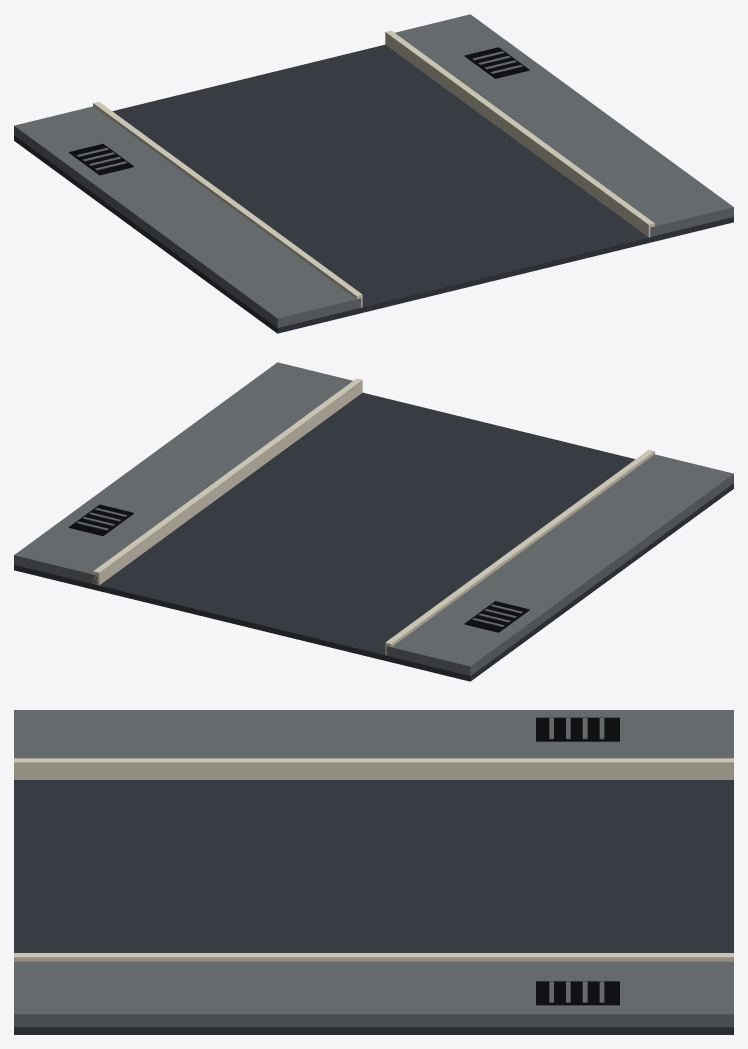
Rendered from side-alley-ground-6m.glb.
3 renders of one model, top to bottom at view 1: azimuth 30°, elevation 25°; view 2: azimuth 150°, elevation 25°; view 3: azimuth 270°, elevation 25°, orthographic. The views are drawn at different scales.
Visible parts, largest first — view 1: side-alley-ground-6m; view 2: side-alley-ground-6m; view 3: side-alley-ground-6m.
Boxes of the visible parts, left/top/right/bottom form: side-alley-ground-6m: left=14, top=14, right=733, bottom=333; side-alley-ground-6m: left=14, top=362, right=733, bottom=681; side-alley-ground-6m: left=14, top=710, right=733, bottom=1034.
Bounding box in the file's own units: 6 × 0.23 × 6.
Materials: 1 (1 with a texture image).
